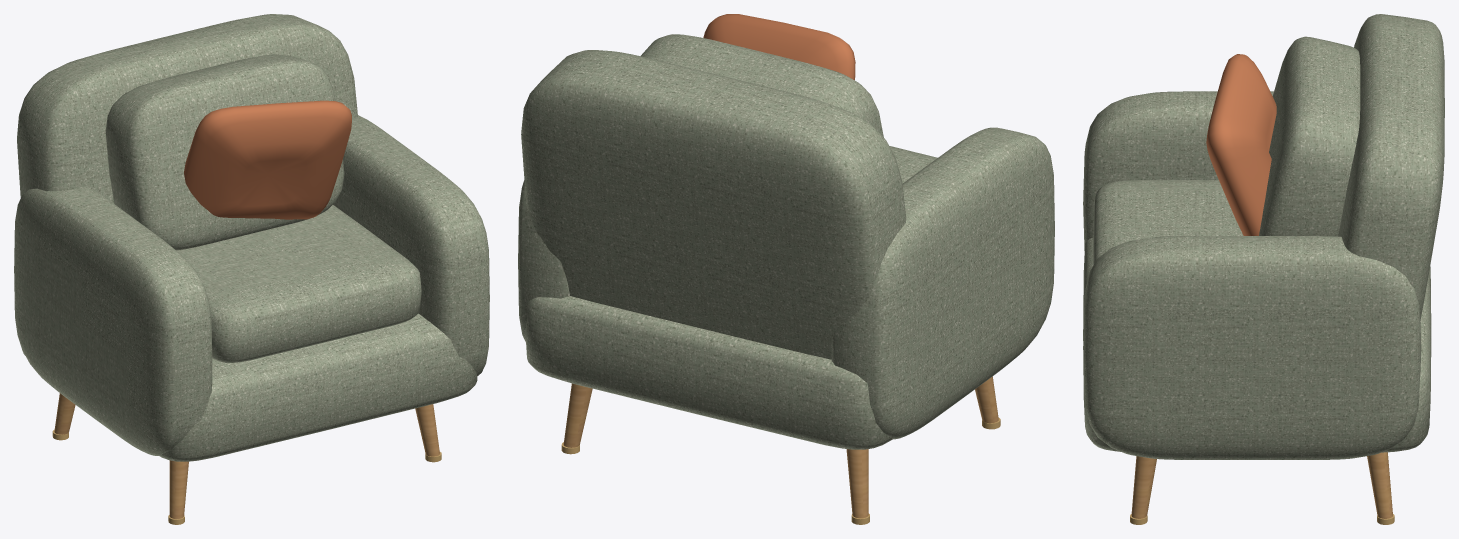
Rendered from armchair.glb.
3 views of the same model, side by side, from view 1: azimuth 30°, elevation 25°; view 2: azimuth 150°, elevation 25°; view 3: azimuth 270°, elevation 25° (orthographic). The views are drawn at different scales.
Visible parts, largest first — view 1: armchair_arms, armchair_seat_cushion, armchair_base, armchair_back, armchair_back_cushion, armchair_pillow, armchair_legs; view 2: armchair_back, armchair_arms, armchair_base, armchair_back_cushion, armchair_pillow, armchair_legs, armchair_seat_cushion; view 3: armchair_arms, armchair_back, armchair_back_cushion, armchair_pillow, armchair_seat_cushion, armchair_base, armchair_legs.
Part boxes in pixels (x1,y1,x2,y2): armchair_arms: [14, 115, 489, 455]; armchair_seat_cushion: [176, 205, 421, 362]; armchair_base: [22, 313, 477, 461]; armchair_back: [17, 14, 357, 203]; armchair_back_cushion: [105, 54, 344, 250]; armchair_pillow: [184, 100, 351, 219]; armchair_legs: [52, 393, 441, 524]; armchair_back: [521, 50, 906, 359]; armchair_arms: [518, 127, 1054, 439]; armchair_base: [525, 296, 892, 449]; armchair_back_cushion: [640, 34, 883, 137]; armchair_pillow: [703, 14, 855, 80]; armchair_legs: [561, 376, 1000, 524]; armchair_seat_cushion: [889, 146, 937, 183]; armchair_arms: [1083, 91, 1421, 459]; armchair_back: [1338, 14, 1444, 320]; armchair_back_cushion: [1259, 36, 1360, 236]; armchair_pillow: [1206, 54, 1276, 235]; armchair_seat_cushion: [1093, 179, 1243, 264]; armchair_base: [1083, 238, 1431, 452]; armchair_legs: [1130, 452, 1394, 524].
Bounding box in the file's own units: 0.827 × 0.8413 × 0.7157.
4 materials, 2 textured.
